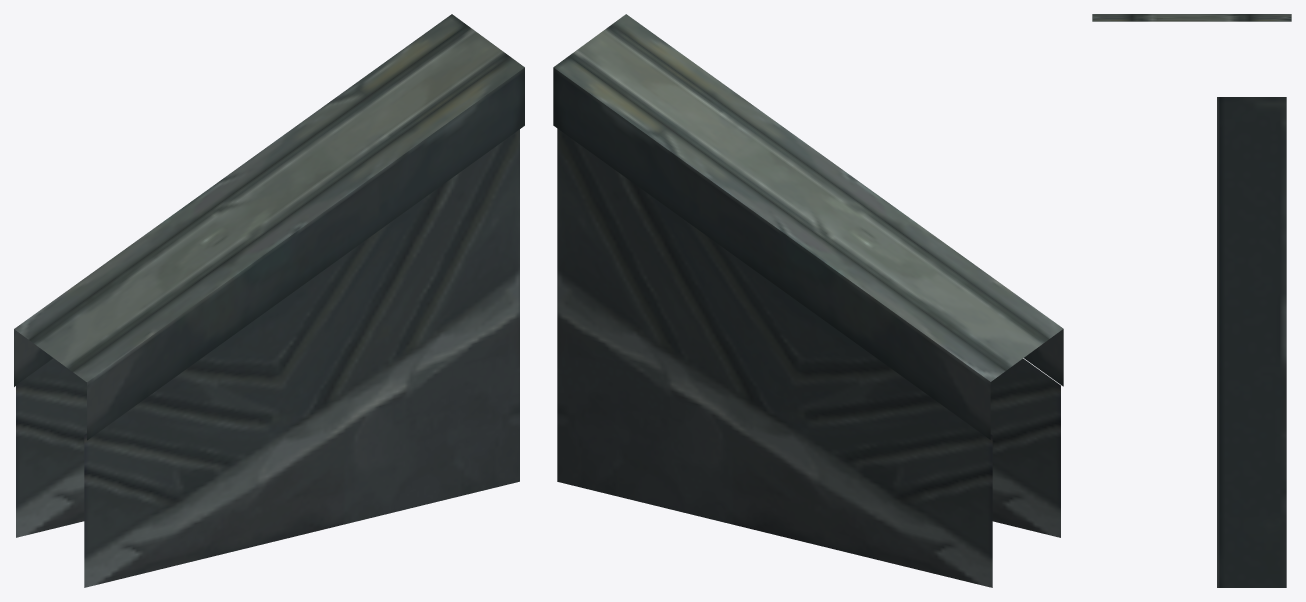
File: fb_fyqc_jz_02_i.FBX
3 renders of one model, left to right at view 1: azimuth 30°, elevation 25°; view 2: azimuth 150°, elevation 25°; view 3: azimuth 270°, elevation 25°, orthographic. The views are drawn at different scales.
Parts seen in each view (by area): view 1: Object003; view 2: Object003; view 3: Object003.
Boxes of the visible parts, bbox=[...] form: Object003: bbox=[14, 14, 524, 587]; Object003: bbox=[553, 14, 1063, 587]; Object003: bbox=[1092, 14, 1291, 587].
Bounding box in the file's own units: 508 × 461 × 147.
